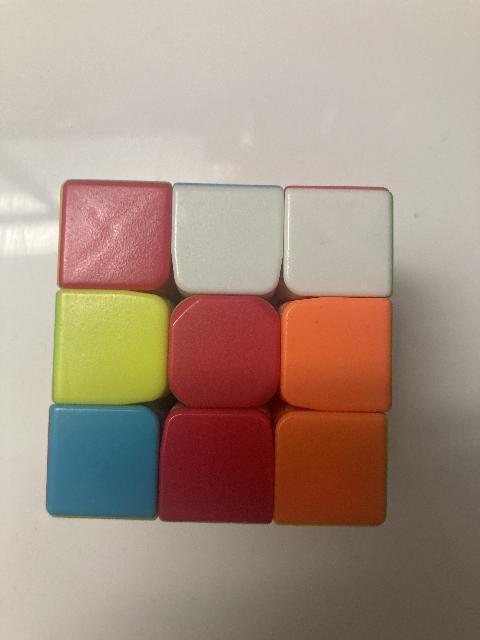Blue: (50, 414, 160, 518)
Orange: (283, 300, 394, 408)
Red: (160, 418, 276, 516), (62, 185, 172, 288), (278, 418, 384, 522), (173, 304, 273, 404)
White: (176, 190, 283, 290), (290, 196, 390, 294)
Yellow: (59, 303, 165, 401)
